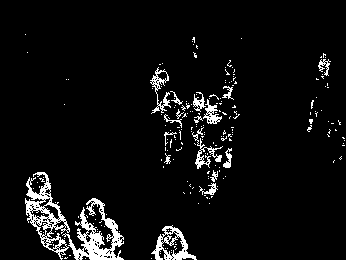person: (24, 172, 75, 260), (196, 97, 230, 199), (74, 196, 126, 260), (151, 89, 189, 166), (217, 86, 241, 172), (186, 89, 209, 156), (151, 63, 171, 110)
